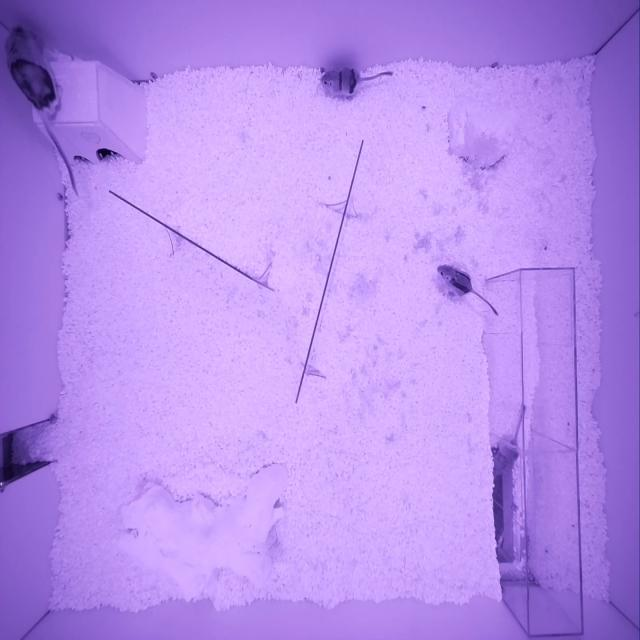adult_back: (5, 26, 63, 118)
pup_h_stripe: (321, 67, 360, 97)
pup_spotted: (492, 437, 519, 480)
pup_v_stripe: (437, 264, 471, 296)
